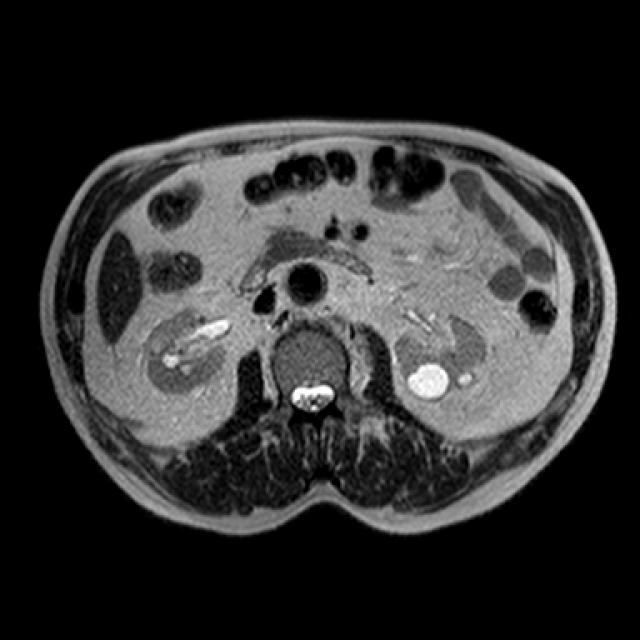sag: (140, 306, 228, 396)
sol: (391, 313, 486, 404)
